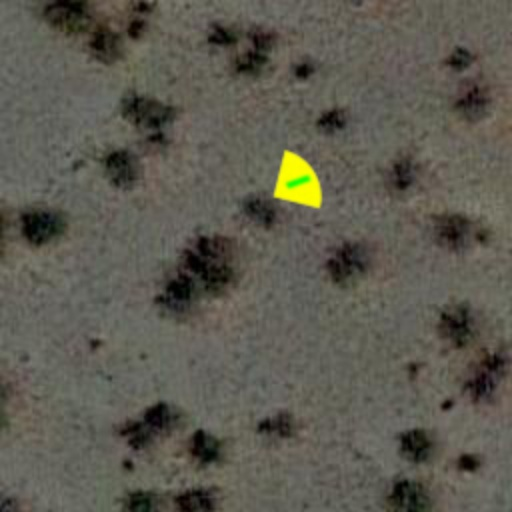quarter_circle: (252, 136, 344, 228)
